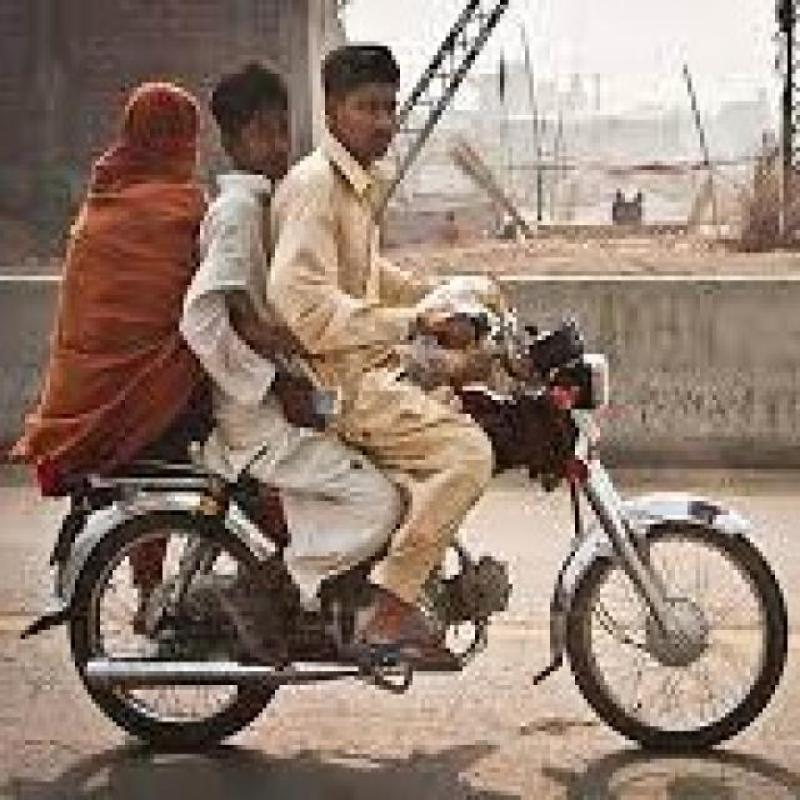nohelmet: (320, 38, 462, 220), (228, 36, 316, 178)
